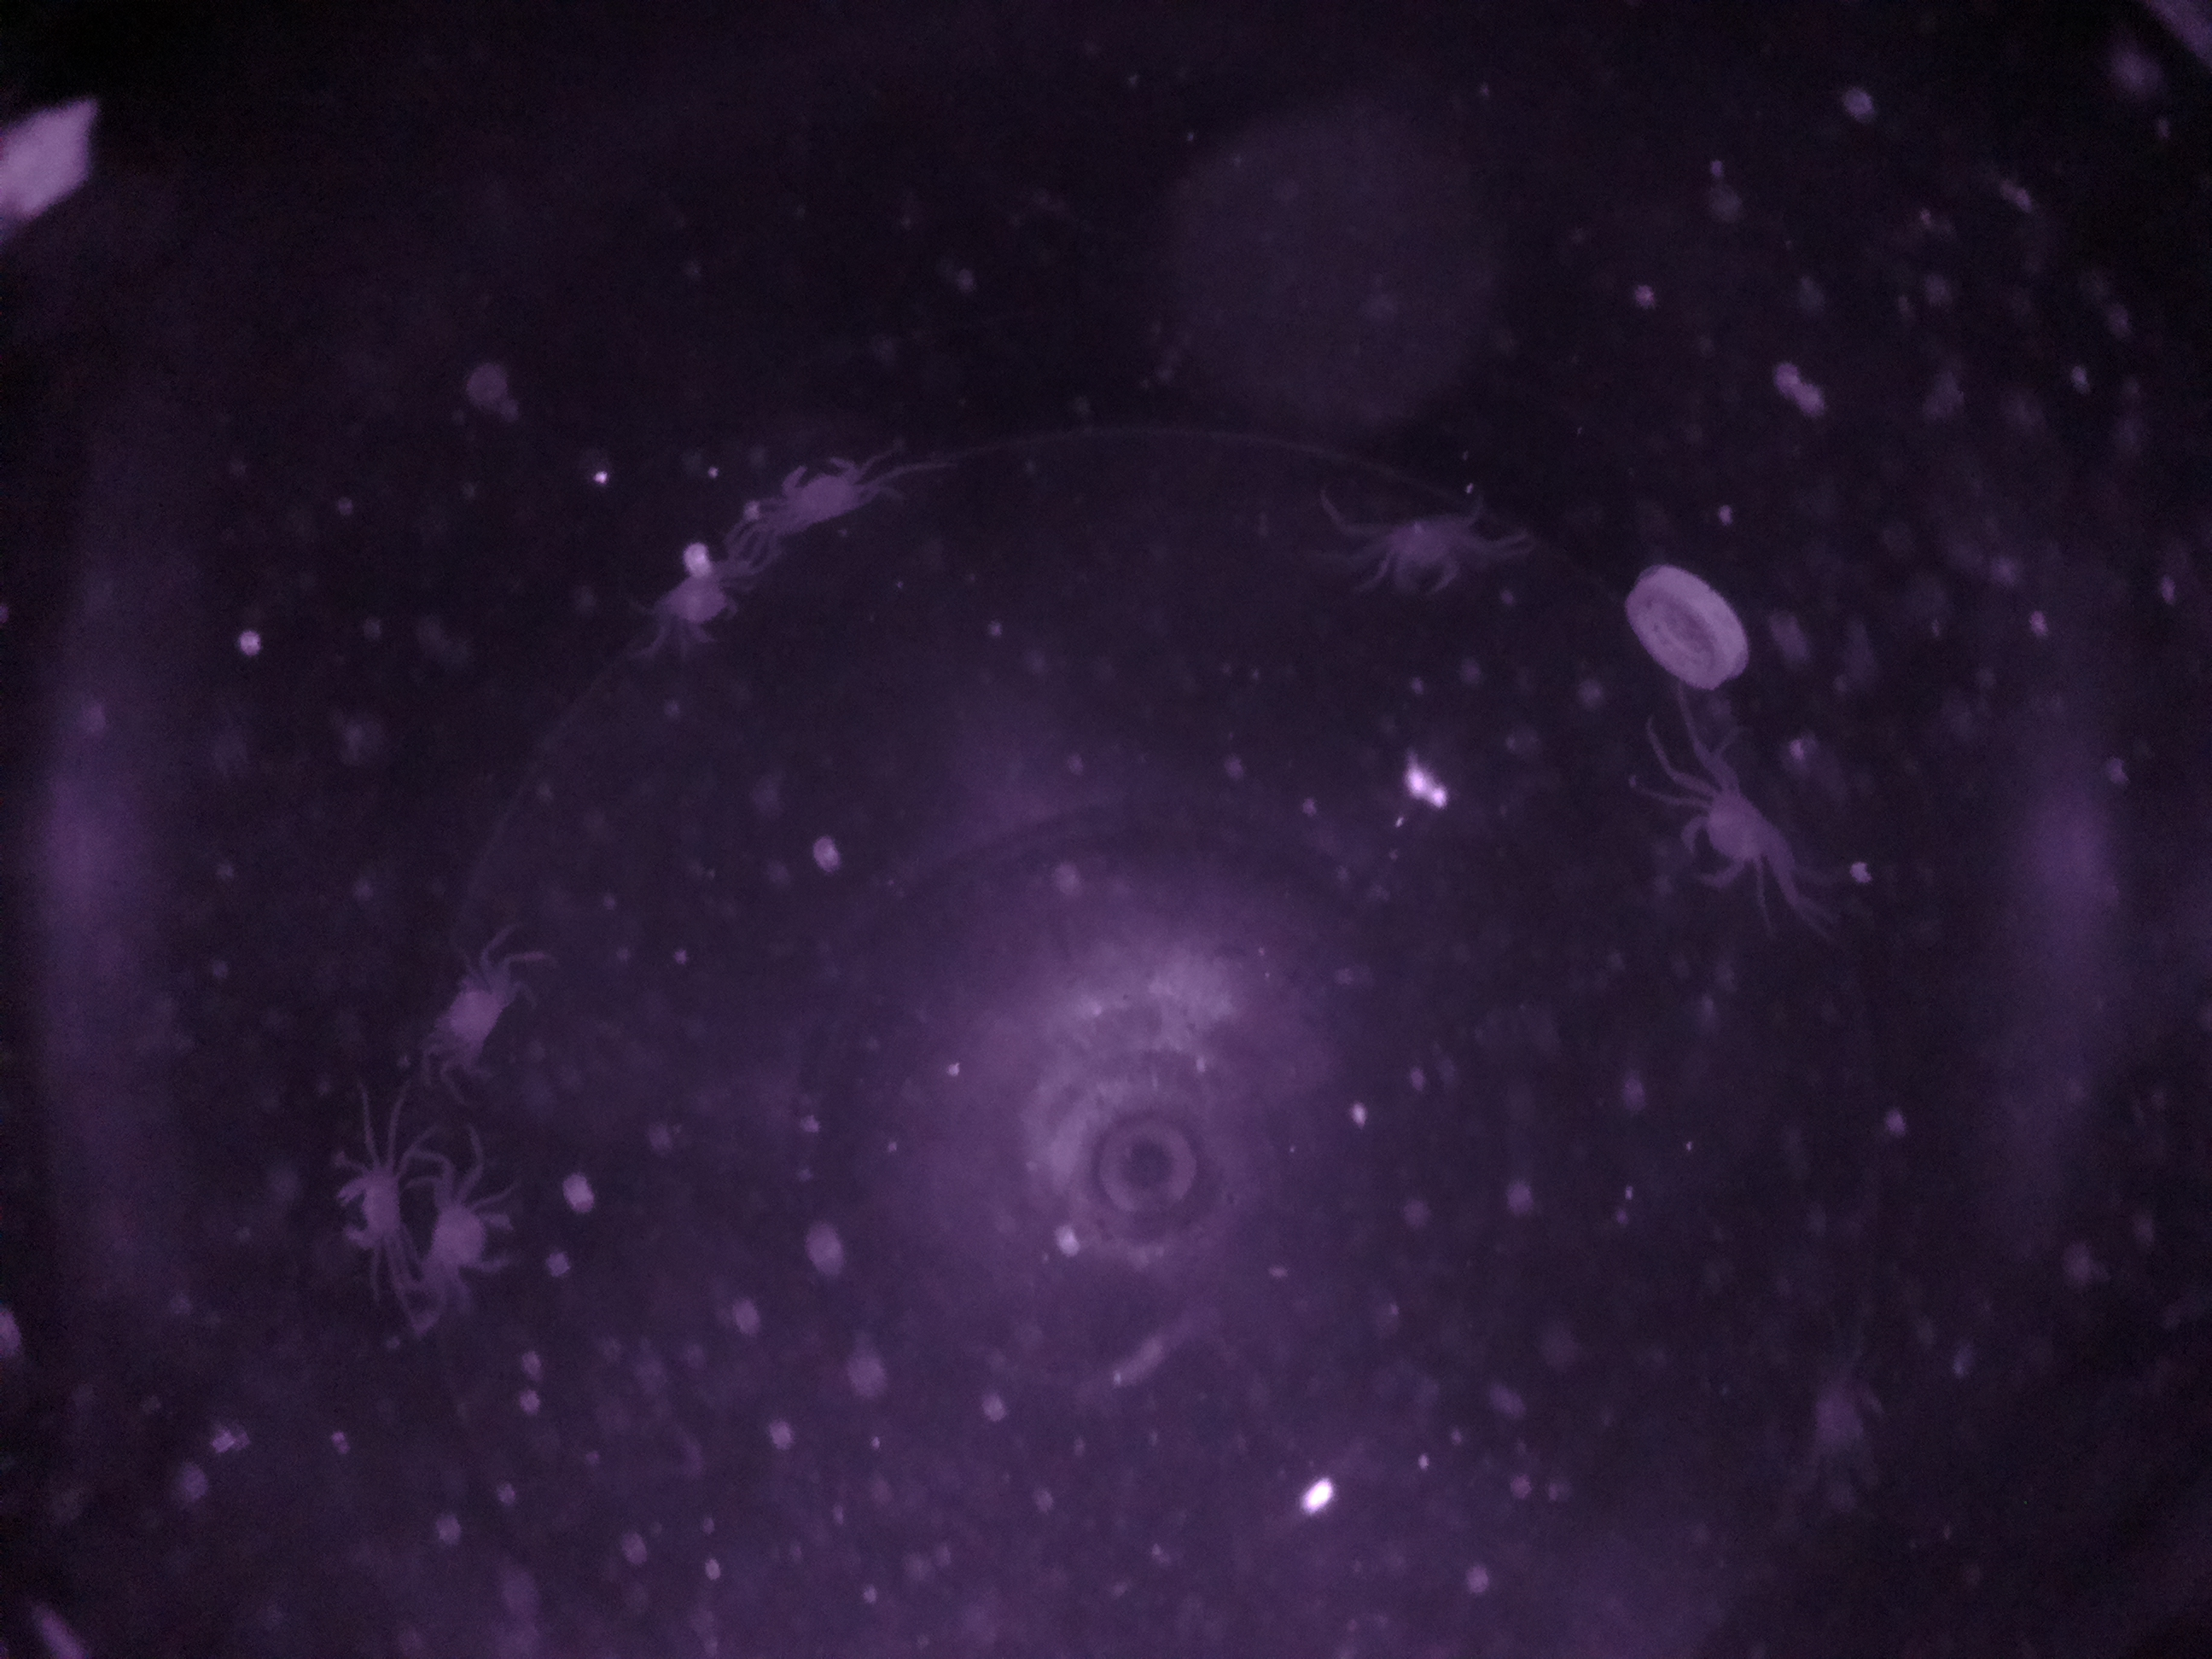Crab: (399, 946, 571, 1093), (1660, 760, 1799, 910), (404, 1178, 540, 1293), (322, 1141, 425, 1291), (754, 439, 894, 542)
